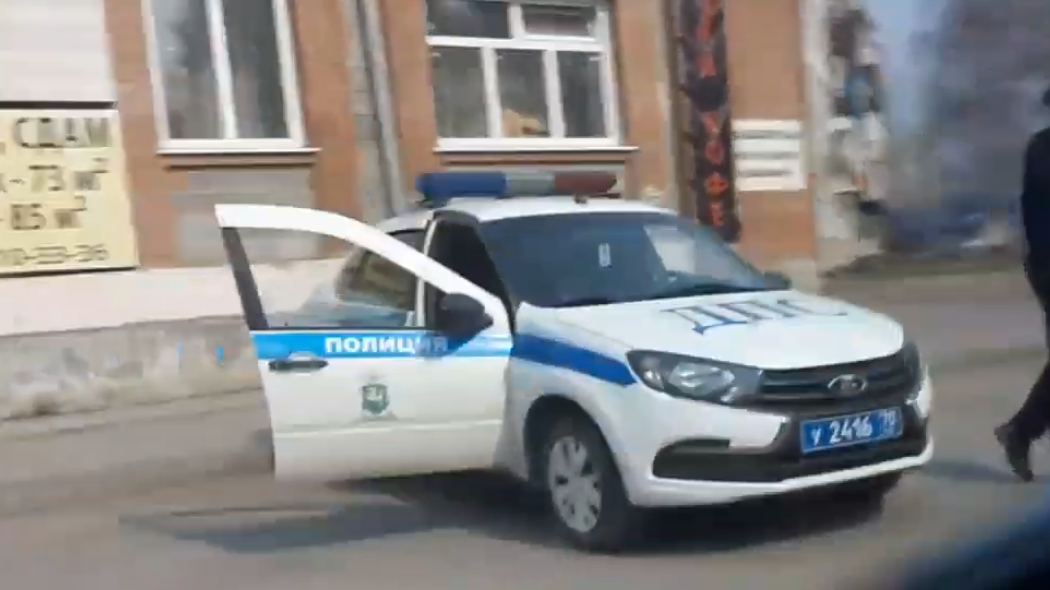police car: (257, 167, 927, 536)
